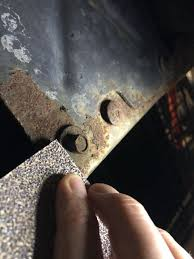rust: (2, 71, 94, 159), (88, 92, 137, 143)
